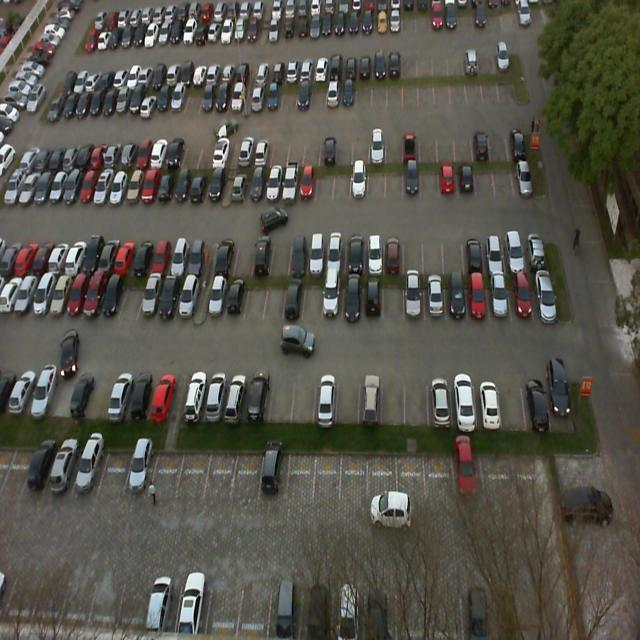space-empty: (94, 445, 132, 502), (148, 444, 182, 500), (231, 451, 264, 504), (499, 373, 528, 432), (204, 448, 238, 498), (175, 445, 208, 496), (312, 451, 342, 507), (117, 271, 146, 322), (83, 371, 112, 421), (288, 449, 314, 504), (268, 373, 294, 424), (262, 270, 286, 324), (382, 371, 405, 424), (241, 275, 265, 325), (335, 373, 359, 423), (290, 372, 313, 424), (405, 374, 428, 426), (443, 226, 466, 273), (303, 276, 324, 324), (425, 229, 445, 276), (404, 226, 424, 272), (229, 238, 252, 277), (384, 276, 402, 322), (268, 236, 290, 272), (478, 158, 496, 198), (494, 160, 514, 195), (368, 162, 386, 200), (422, 163, 440, 198), (333, 165, 350, 202), (388, 162, 404, 200), (316, 166, 332, 200)
space-occupied: (123, 442, 158, 502), (71, 446, 106, 501), (43, 445, 78, 499), (545, 370, 576, 426), (223, 370, 254, 424), (21, 446, 55, 494), (259, 448, 290, 500), (523, 371, 550, 428), (64, 367, 93, 420), (476, 372, 502, 429), (222, 272, 249, 326), (106, 371, 134, 422), (452, 374, 479, 426), (136, 267, 162, 320), (428, 375, 454, 428), (127, 370, 154, 420), (312, 372, 336, 428), (154, 274, 180, 324), (203, 370, 229, 420), (246, 372, 272, 422), (530, 270, 557, 318), (148, 374, 175, 422), (359, 371, 382, 426), (174, 272, 198, 324), (101, 270, 125, 320), (486, 273, 511, 320), (483, 227, 507, 275), (181, 373, 206, 418), (205, 273, 225, 327), (130, 236, 156, 276), (113, 238, 140, 276), (509, 276, 532, 320), (155, 165, 178, 208), (525, 229, 548, 272), (444, 277, 467, 320), (467, 275, 488, 322), (148, 237, 172, 278), (188, 164, 211, 206), (363, 276, 384, 322), (282, 276, 302, 324), (167, 238, 192, 276), (505, 227, 526, 272), (322, 277, 343, 322), (188, 239, 212, 278), (139, 165, 162, 205), (511, 156, 534, 196), (287, 234, 310, 274), (404, 274, 424, 320), (426, 276, 446, 322), (172, 165, 193, 208), (382, 231, 404, 272), (204, 166, 226, 206), (464, 228, 484, 272), (231, 164, 252, 205), (213, 239, 236, 276), (307, 234, 328, 273), (345, 231, 364, 274), (251, 235, 272, 272), (345, 275, 362, 320), (324, 235, 344, 273), (364, 235, 383, 273), (458, 162, 478, 198), (299, 166, 317, 205), (267, 166, 284, 207), (283, 164, 300, 205), (250, 166, 268, 204), (403, 163, 420, 198), (440, 162, 458, 195), (351, 164, 367, 198)
